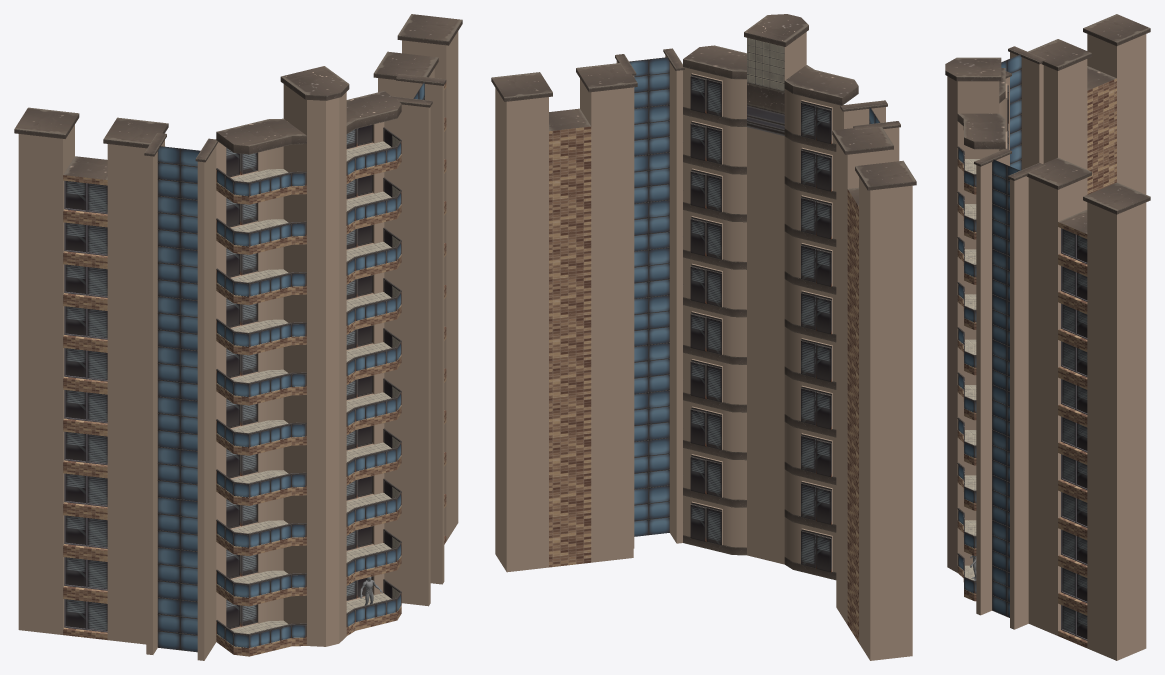
The model's file is Predio.fbx.
3 views of the same model, side by side, from view 1: azimuth 30°, elevation 25°; view 2: azimuth 150°, elevation 25°; view 3: azimuth 270°, elevation 25° (orthographic). The views are drawn at different scales.
Visible parts, largest first — view 1: SM_building_module_1.001, SM_building_module_6.001, SM_building_module_3.001, SM_building_module_2.001, SM_building_module_5.001, SM_building_module_4.002, SM_building_module_6_02(top).001, SM_building_module_2(top).001, SM_building_module_3_02(top).001, SM_building_module_1_02(top).002; view 2: SM_building_module_6.001, SM_building_module_1.001, SM_building_module_5.001, SM_building_module_4.002, SM_building_module_2.001, SM_building_module_6_02(top).001, SM_building_module_3.001, SM_building_module_2(top).001, SM_building_module_1_02(top).002, SM_building_module_3_02(top).001; view 3: SM_building_module_6.001, SM_building_module_3.001, SM_building_module_5.001, SM_building_module_6_02(top).001, SM_building_module_4.002, SM_building_module_2.001, SM_building_module_1.001, SM_building_module_2(top).001, SM_building_module_3_02(top).001, SM_building_module_1_02(top).002.
Part boxes in pixels (x1,y1,x2,y2): SM_building_module_1.001: [216, 122, 401, 656]; SM_building_module_6.001: [18, 63, 458, 644]; SM_building_module_3.001: [146, 130, 444, 660]; SM_building_module_2.001: [283, 185, 346, 646]; SM_building_module_5.001: [63, 82, 446, 639]; SM_building_module_4.002: [157, 81, 424, 652]; SM_building_module_6_02(top).001: [14, 14, 462, 184]; SM_building_module_2(top).001: [280, 66, 349, 195]; SM_building_module_3_02(top).001: [144, 74, 446, 208]; SM_building_module_1_02(top).002: [216, 91, 401, 154]; SM_building_module_6.001: [495, 118, 912, 660]; SM_building_module_1.001: [683, 67, 842, 580]; SM_building_module_5.001: [549, 108, 858, 642]; SM_building_module_4.002: [629, 57, 880, 536]; SM_building_module_2.001: [747, 127, 784, 564]; SM_building_module_6_02(top).001: [491, 63, 916, 224]; SM_building_module_3.001: [633, 105, 682, 548]; SM_building_module_2(top).001: [744, 14, 808, 135]; SM_building_module_1_02(top).002: [683, 45, 858, 105]; SM_building_module_3_02(top).001: [615, 48, 900, 162]; SM_building_module_6.001: [1028, 66, 1146, 660]; SM_building_module_3.001: [976, 99, 1043, 629]; SM_building_module_5.001: [1058, 66, 1116, 647]; SM_building_module_6_02(top).001: [1025, 14, 1150, 246]; SM_building_module_4.002: [992, 54, 1021, 617]; SM_building_module_2.001: [947, 161, 976, 572]; SM_building_module_1.001: [957, 83, 1008, 601]; SM_building_module_2(top).001: [945, 57, 1001, 165]; SM_building_module_3_02(top).001: [974, 46, 1045, 222]; SM_building_module_1_02(top).002: [957, 68, 1005, 149].
Size of the model in its own units: 22.43 by 26.4 by 9.88.
